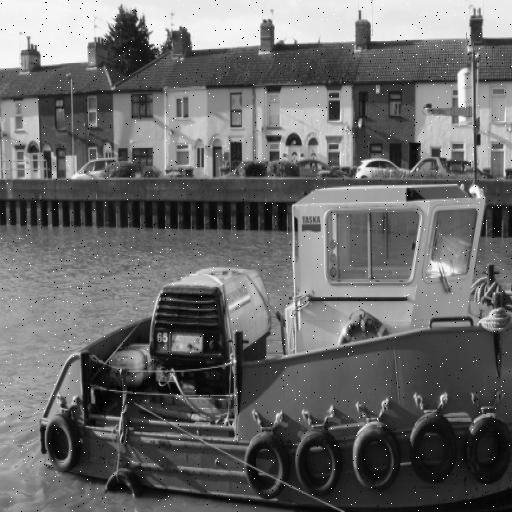tugboat: (36, 165, 512, 512)
